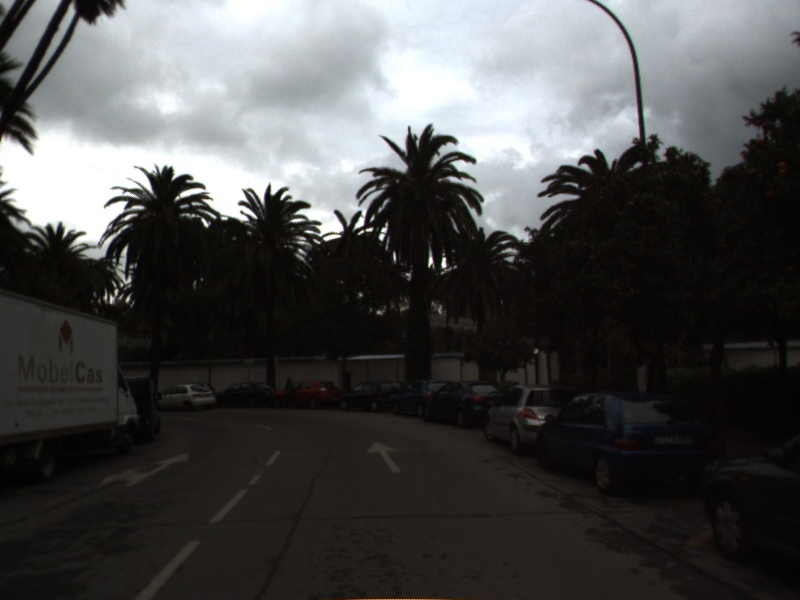STRAIGHT: (364, 438, 403, 474)
STRAIGHT_LEFT: (95, 450, 191, 490)
